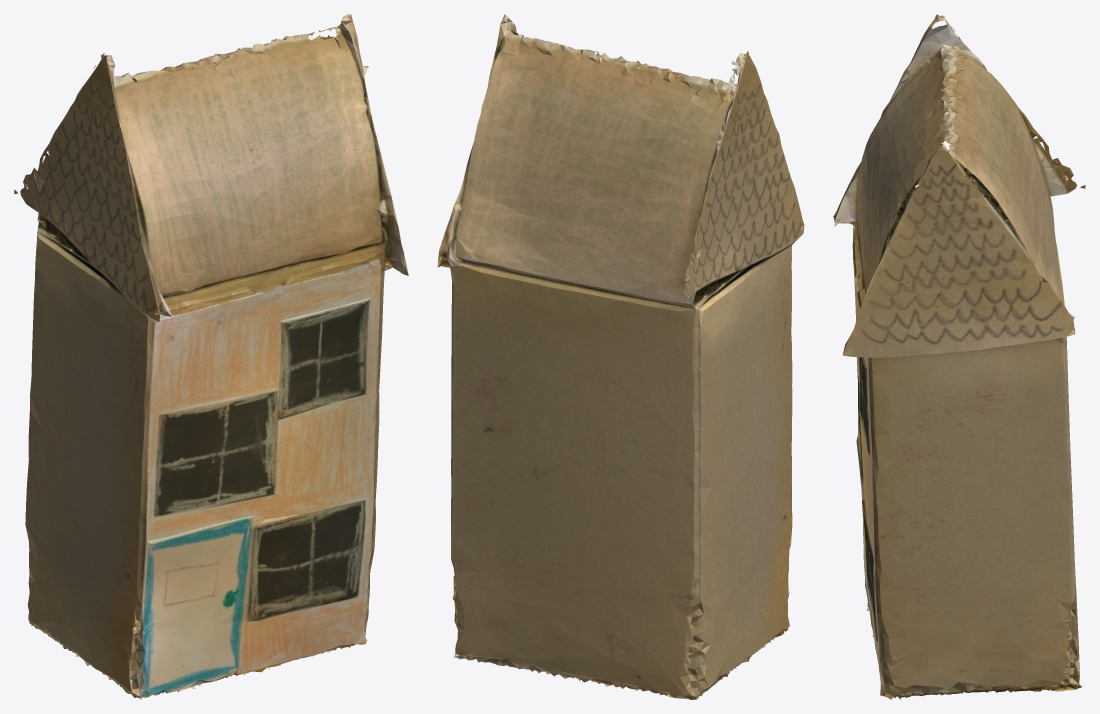
The picture shows the model from 3 angles, left to right: view 1: azimuth 30°, elevation 25°; view 2: azimuth 150°, elevation 25°; view 3: azimuth 270°, elevation 25°; orthographic projection. The views are drawn at different scales.
Parts seen in each view (by area): view 1: Object_0; view 2: Object_0; view 3: Object_0.
Boxes of the visible parts, bbox=[...] form: Object_0: bbox=[14, 14, 408, 699]; Object_0: bbox=[437, 14, 804, 699]; Object_0: bbox=[833, 14, 1085, 699].
Bounding box in the file's own units: 13.29 × 29.46 × 11.62.
Materials: 1 (1 with a texture image).
